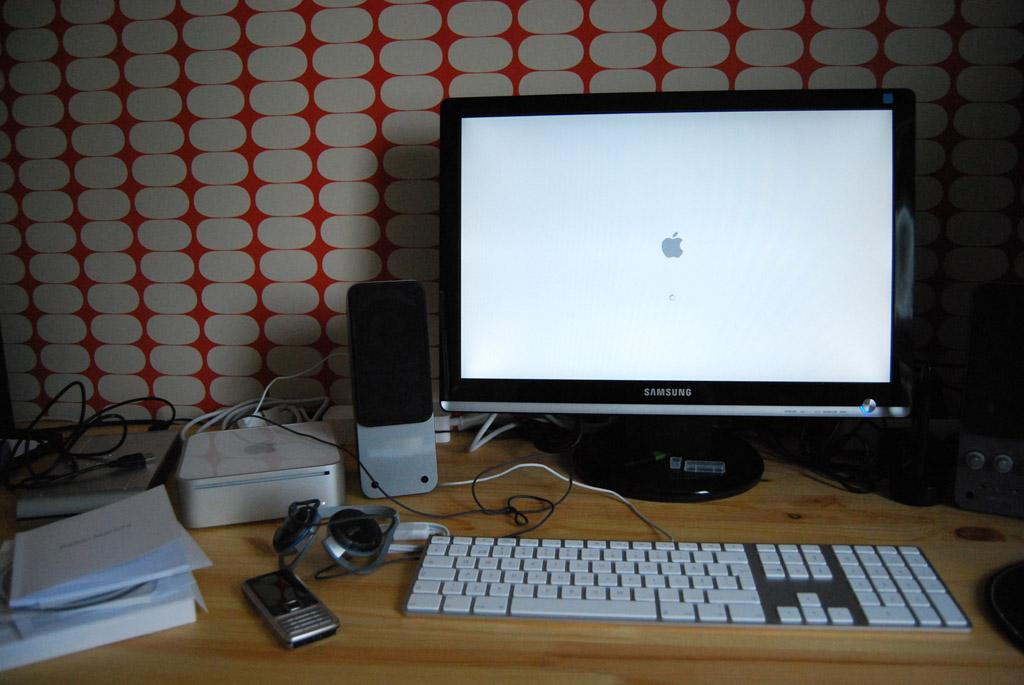computer: (438, 87, 917, 503)
